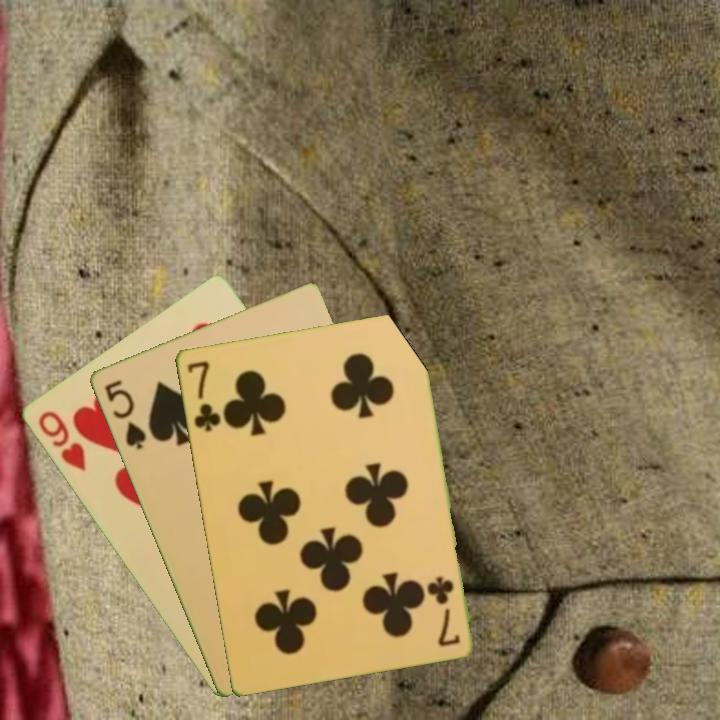5s: (100, 376, 149, 452)
7c: (183, 357, 223, 434), (425, 572, 463, 649)
9h: (33, 407, 89, 475)
